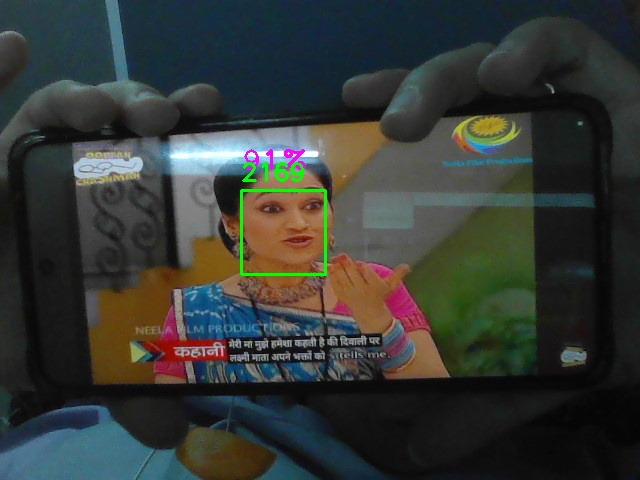fake: (241, 190, 326, 275)
